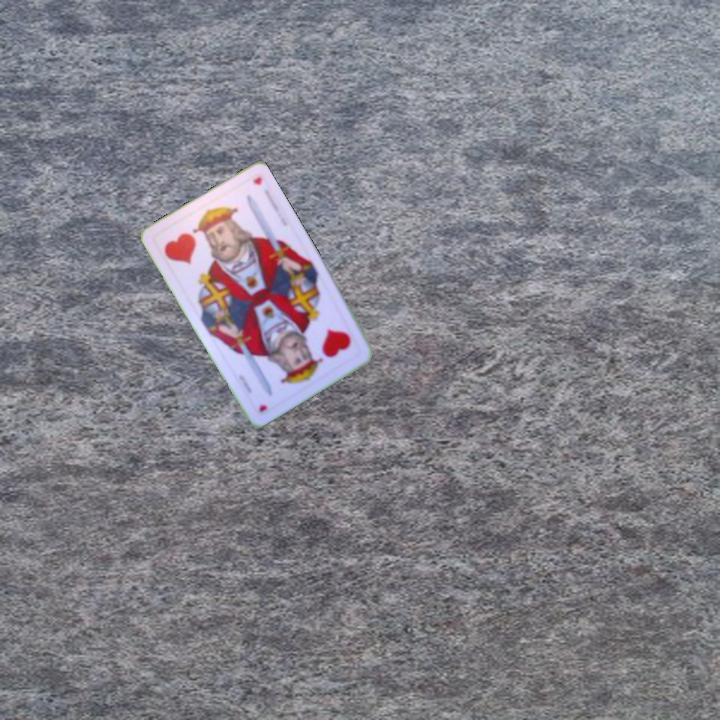h_k.png: (281, 304, 366, 386), (150, 203, 235, 285)
